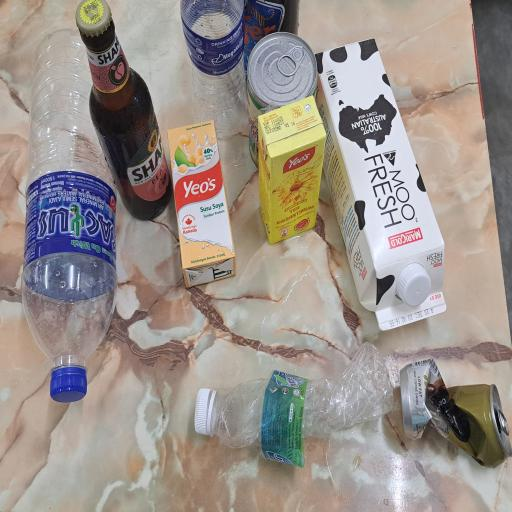can: (268, 324, 361, 427)
drink carton: (140, 424, 358, 512), (168, 225, 296, 309), (201, 342, 311, 438)
glass bottle: (225, 105, 384, 228), (338, 320, 384, 396)
plastic bottle: (114, 27, 364, 150), (44, 289, 128, 512), (300, 241, 384, 326)
plastic bottle cap: (79, 63, 110, 117), (60, 257, 93, 285)
pop tab: (324, 367, 352, 413)
